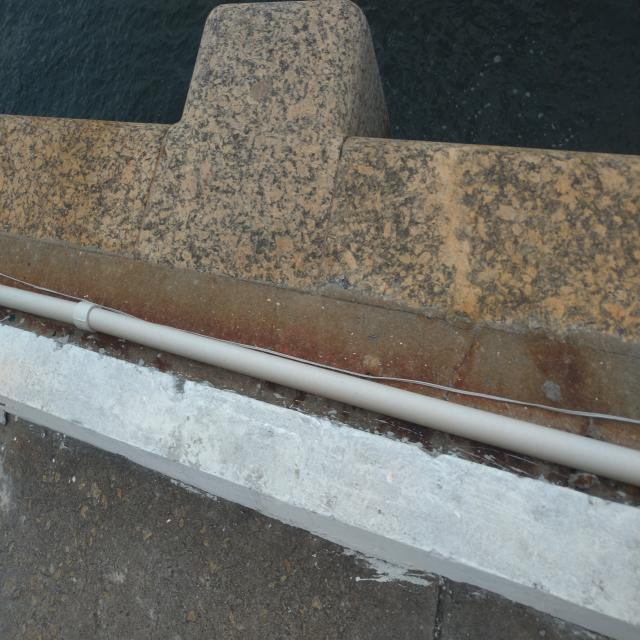gas: (3, 285, 639, 484)
